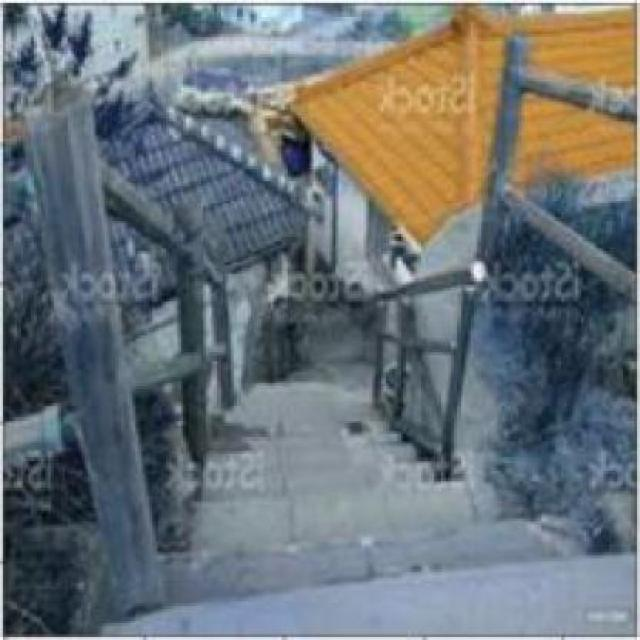stair: (155, 445, 532, 609)
